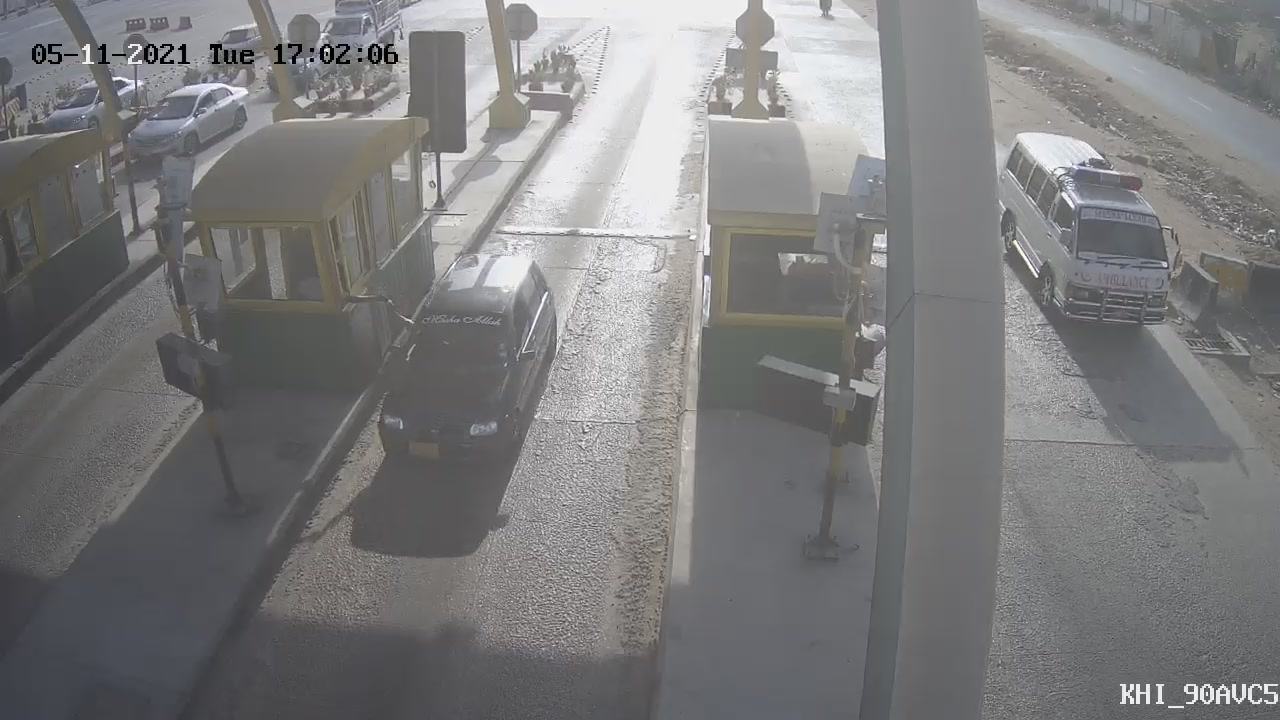F1: (337, 227, 586, 496)
